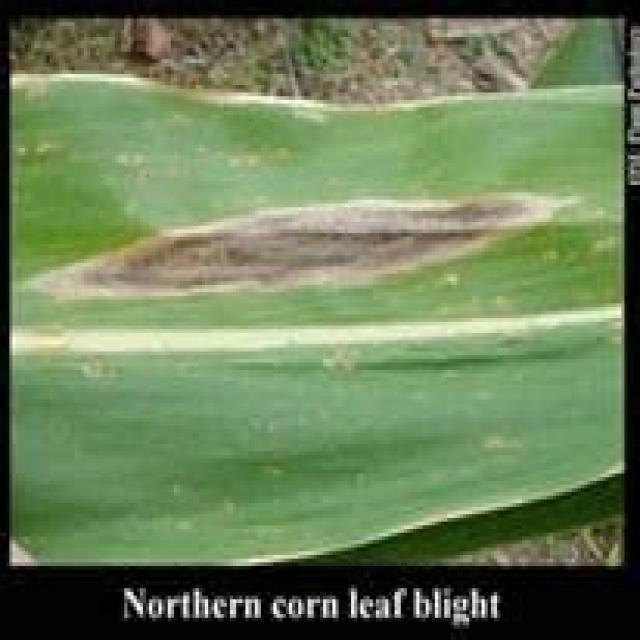blight: (33, 113, 564, 372)
